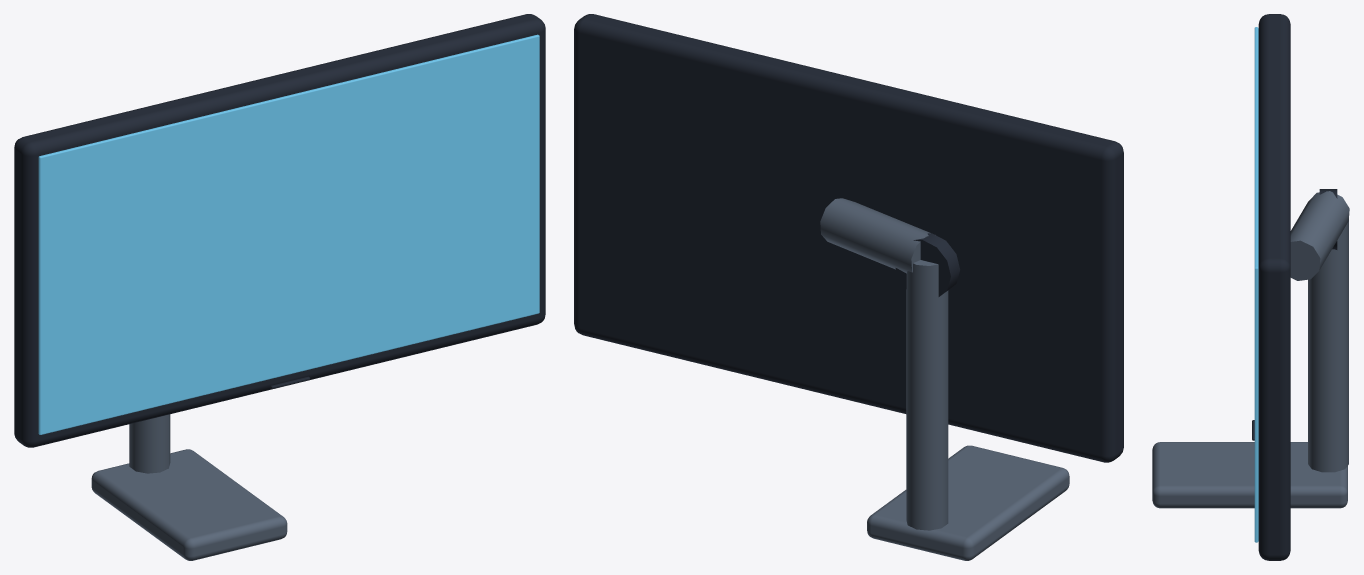
Rendered from monitor.27.arm.glb.
The picture shows the model from 3 angles, left to right: view 1: azimuth 30°, elevation 25°; view 2: azimuth 150°, elevation 25°; view 3: azimuth 270°, elevation 25°; orthographic projection. The views are drawn at different scales.
Visible parts, largest first — view 1: screen, body, stand; view 2: body, stand; view 3: stand, body, screen.
Boxes of the visible parts, x1=… form: screen: x1=38, y1=34, x2=539, y2=434; body: x1=14, y1=14, x2=545, y2=447; stand: x1=91, y1=414, x2=287, y2=560; body: x1=574, y1=14, x2=1123, y2=462; stand: x1=820, y1=198, x2=1069, y2=560; stand: x1=1152, y1=191, x2=1349, y2=508; body: x1=1252, y1=14, x2=1337, y2=560; screen: x1=1254, y1=27, x2=1258, y2=542.
Size of the model in its own units: 0.61 by 0.45 by 0.2016.
